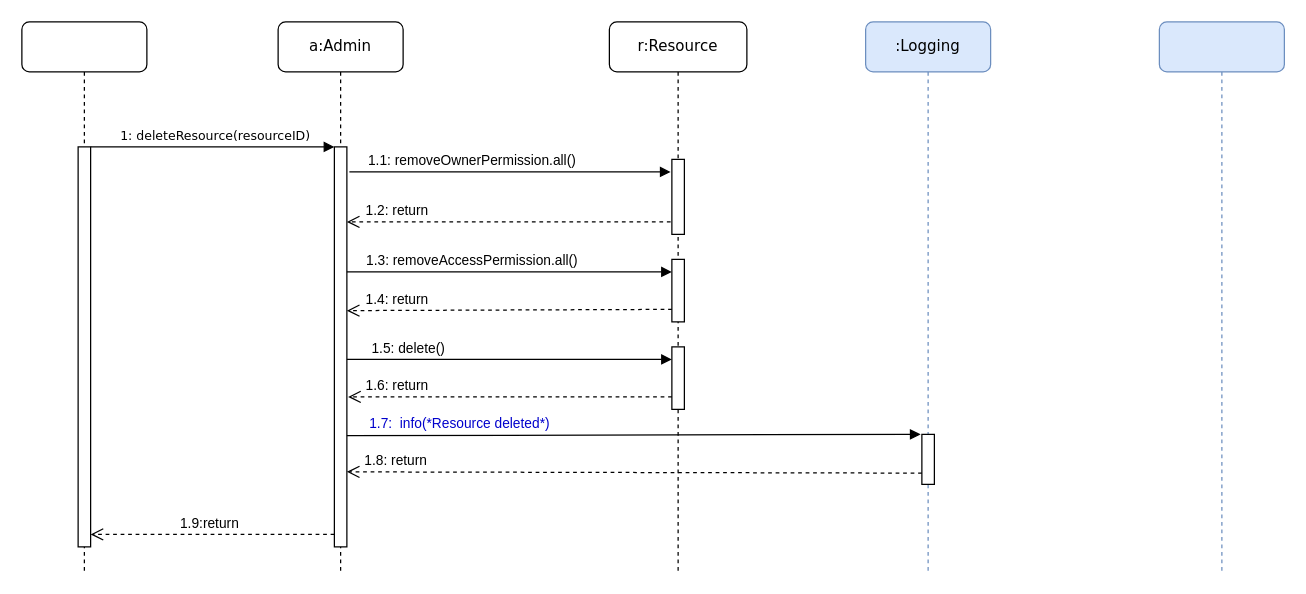
This 1306x594 diagram has some shape labels left out. Here are the shapes that lost their labels. From the top down, the box of each, then its label:
(21, 21, 147, 572): View
(1158, 21, 1284, 572): Django API Database
